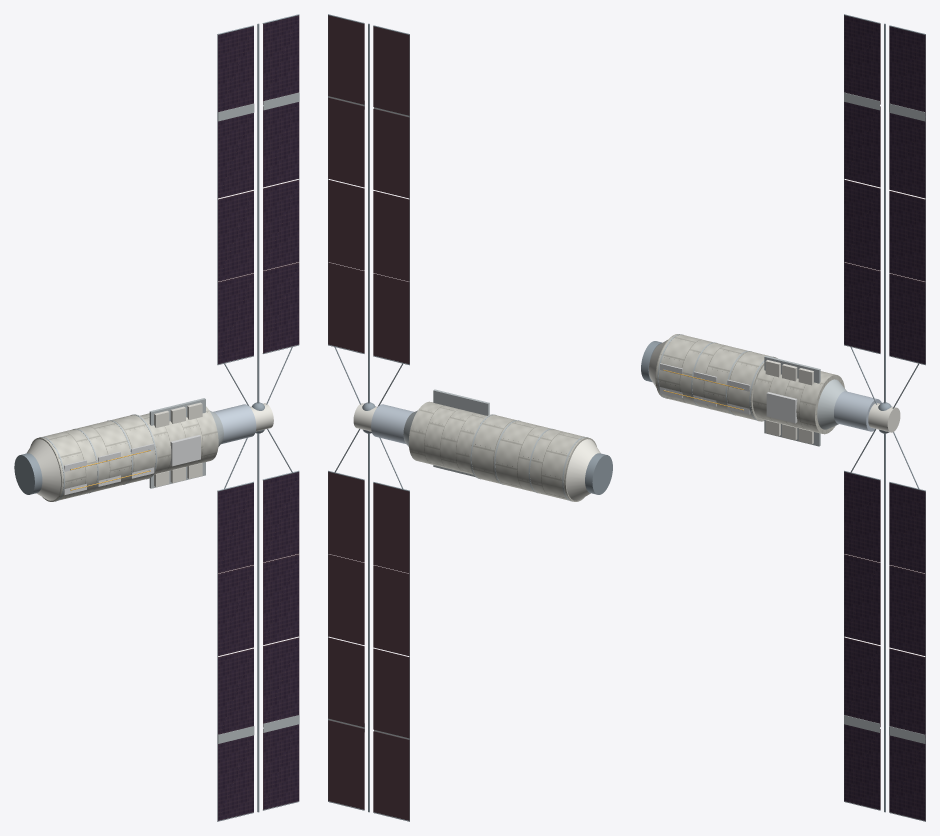
Rendered from mengtian.glb.
The picture shows the model from 3 angles, left to right: view 1: azimuth 30°, elevation 25°; view 2: azimuth 150°, elevation 25°; view 3: azimuth 330°, elevation 25°; orthographic projection.
Visible parts, largest first — view 1: Mengtian flexible cell blanket (×16), Mengtian working cabin, Mengtian payload and cargo airlock cabin, Mengtian deployment mast (×2), Mengtian shoulder, Mengtian resource cabin, Mengtian berthing ring, Mengtian cargo airlock door; view 2: Mengtian blanket backing (×16), Mengtian working cabin, Mengtian payload and cargo airlock cabin, Mengtian deployment mast (×2), Mengtian shoulder, Mengtian resource cabin, Mengtian berthing ring, Mengtian exposed payload platform; view 3: Mengtian flexible cell blanket (×16), Mengtian working cabin, Mengtian payload and cargo airlock cabin, Mengtian deployment mast (×2), Mengtian resource cabin, Mengtian resource cabin transition, Mengtian cargo airlock door, Mengtian outboard solar drive.
Boxes of the visible parts, x1,y1,x2,y2 form: Mengtian flexible cell blanket (×16): (218,15,298,820); Mengtian working cabin: (30,414,157,501); Mengtian payload and cargo airlock cabin: (140,406,218,474); Mengtian deployment mast (×2): (257,23,259,812); Mengtian shoulder: (27,439,60,500); Mengtian resource cabin: (213,404,256,444); Mengtian berthing ring: (14,453,42,494); Mengtian cargo airlock door: (170,435,200,466); Mengtian blanket backing (×16): (328,15,409,820); Mengtian working cabin: (469,414,596,501); Mengtian payload and cargo airlock cabin: (408,401,486,474); Mengtian deployment mast (×2): (368,23,369,812); Mengtian shoulder: (566,439,600,500); Mengtian resource cabin: (371,404,413,443); Mengtian berthing ring: (585,453,612,494); Mengtian exposed payload platform: (433,389,489,415); Mengtian flexible cell blanket (×16): (844,15,925,820); Mengtian working cabin: (655,334,777,421); Mengtian payload and cargo airlock cabin: (752,366,844,434); Mengtian deployment mast (×2): (884,23,885,812); Mengtian resource cabin: (834,391,881,431); Mengtian resource cabin transition: (817,379,846,429); Mengtian cargo airlock door: (766,392,797,423); Mengtian outboard solar drive: (868,403,900,432).
Size of the model in its own units: 20.25 by 55.5 by 4.28.
Materials: 9 (2 with a texture image).
